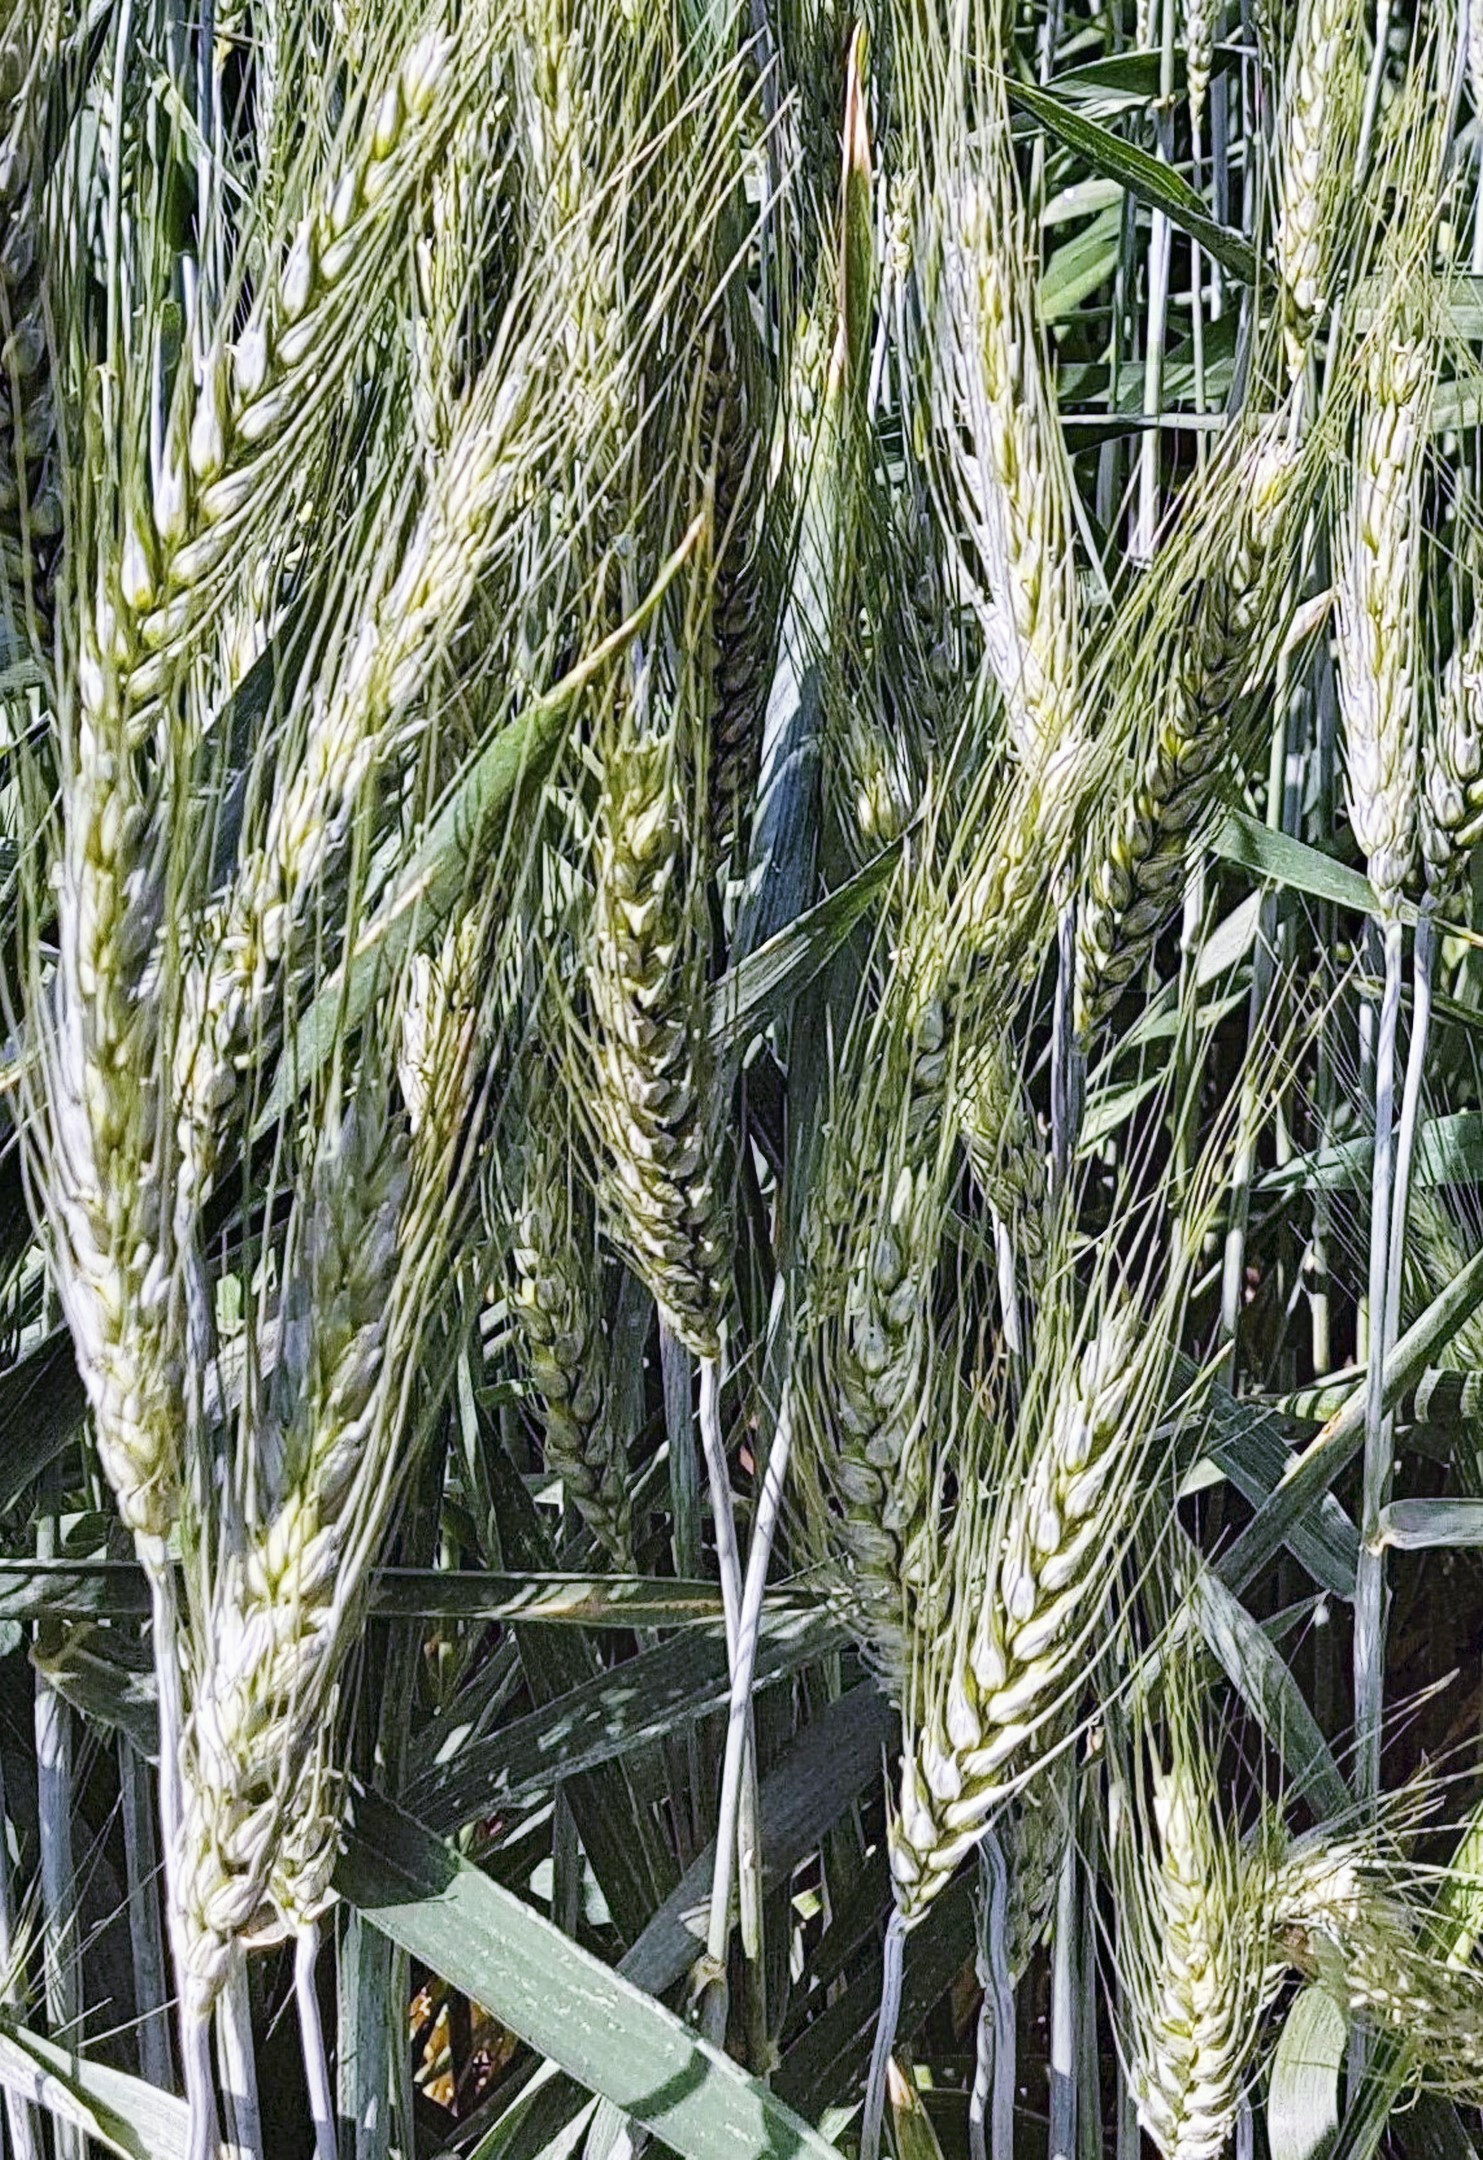Healthy Wheat: (868, 1316, 1199, 1937), (576, 730, 764, 1361)
